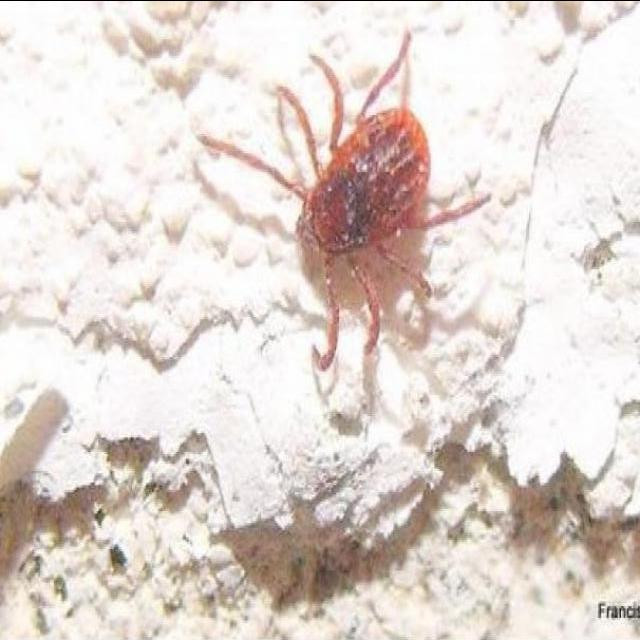Rhipicephalus Sanguineus-F: (198, 34, 491, 397)
